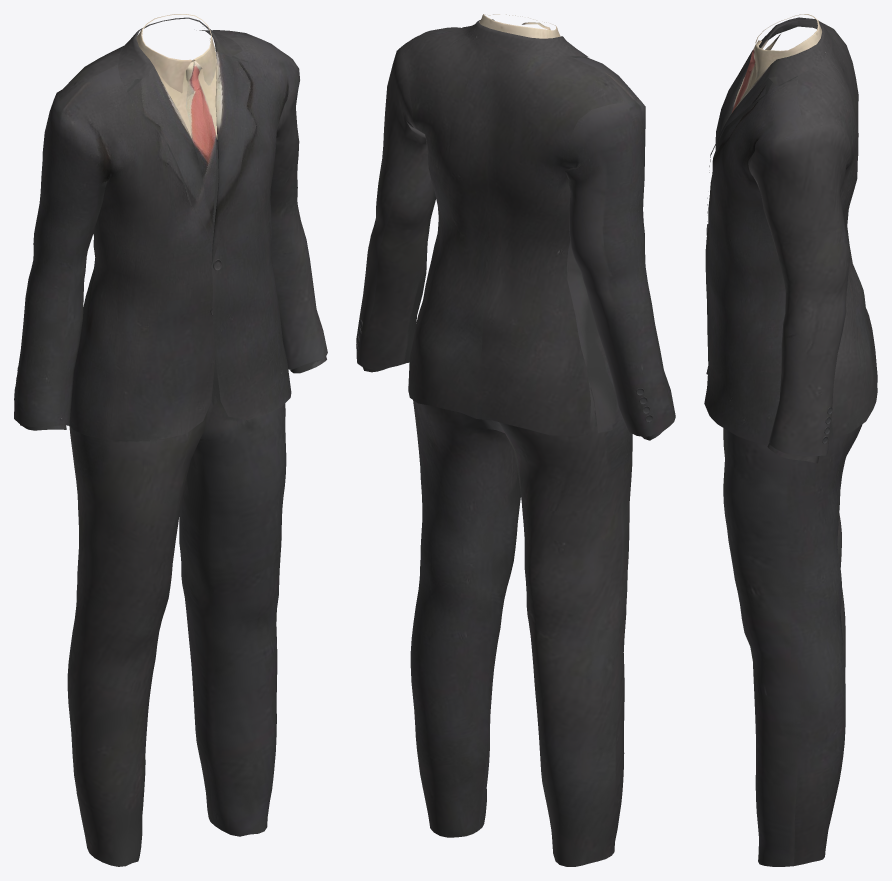
The model's file is cappotto.gltf.
The picture shows the model from 3 angles, left to right: view 1: azimuth 30°, elevation 25°; view 2: azimuth 150°, elevation 25°; view 3: azimuth 270°, elevation 25°; orthographic projection. The views are drawn at different scales.
Parts seen in each view (by area): view 1: m_suit_01Mesh_m_suit_01; view 2: m_suit_01Mesh_m_suit_01; view 3: m_suit_01Mesh_m_suit_01.
Part boxes in pixels (<box>): m_suit_01Mesh_m_suit_01: <box>14,14,327,866</box>; m_suit_01Mesh_m_suit_01: <box>356,14,675,866</box>; m_suit_01Mesh_m_suit_01: <box>704,14,877,866</box>.
Size of the model in its own units: 5.37 by 13.81 by 2.69.
Materials: 1 (1 with a texture image).
